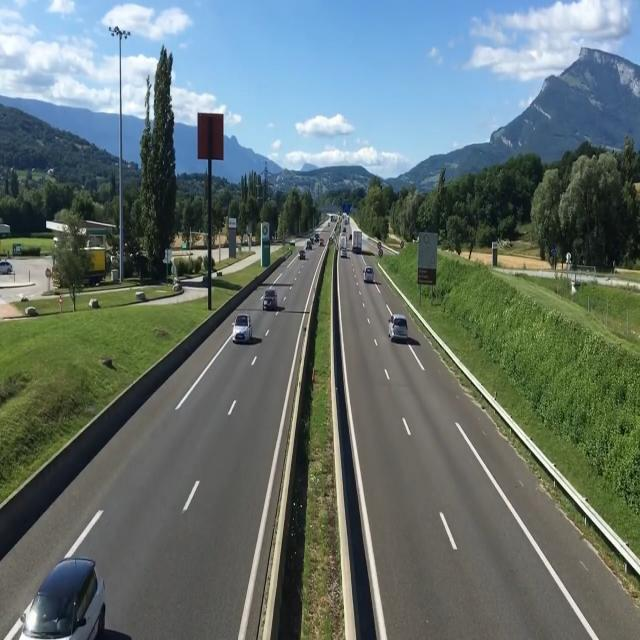car: (11, 553, 112, 640), (230, 310, 260, 347), (388, 310, 412, 348), (262, 283, 284, 316), (362, 264, 377, 284)
